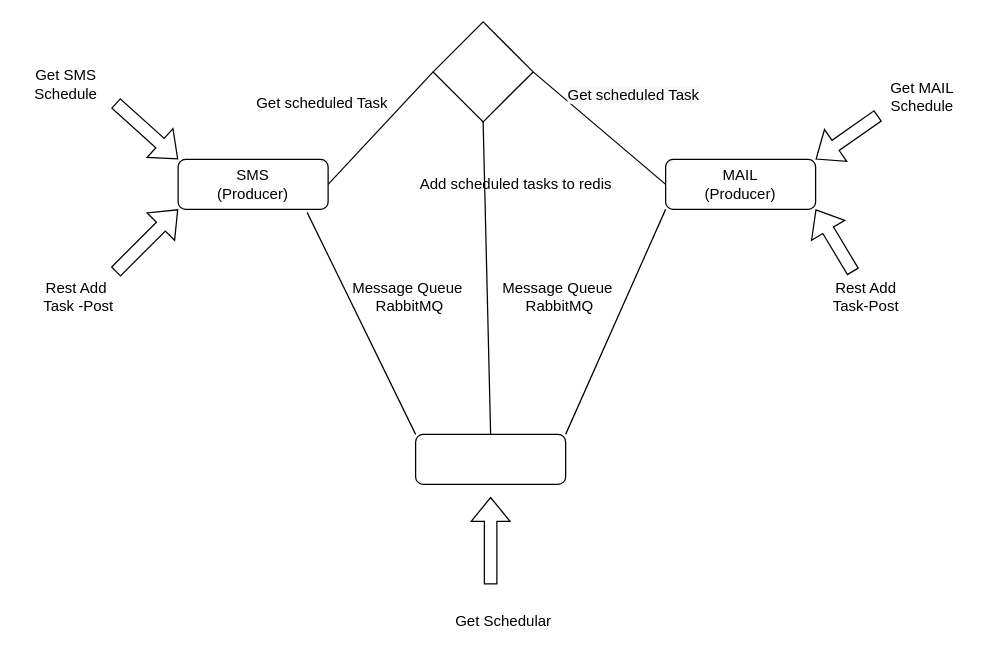
Some shapes in this 986 by 663 pixel diagram are drawn without their labels. Each missing label, with the box of its shape:
Redis: (432, 21, 533, 122)
Schedular (Consumer): (414, 433, 566, 484)
